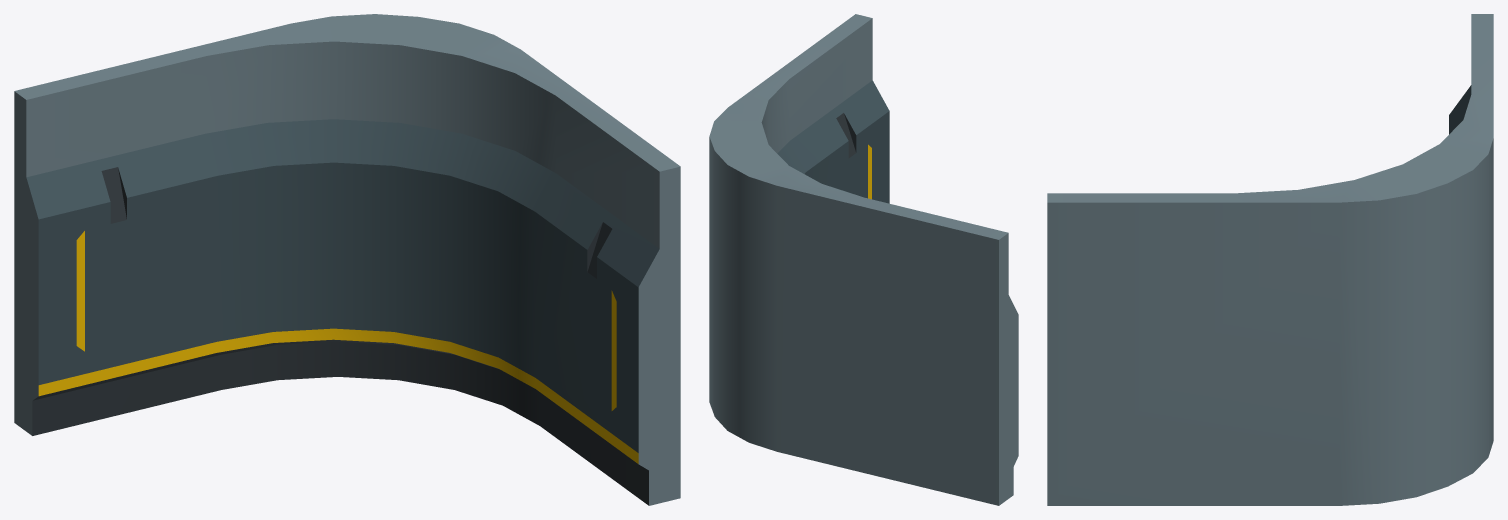
The model's file is Wall_type_C_044.fbx.
The picture shows the model from 3 angles, left to right: view 1: azimuth 30°, elevation 25°; view 2: azimuth 150°, elevation 25°; view 3: azimuth 270°, elevation 25°; orthographic projection. The views are drawn at different scales.
Parts seen in each view (by area): view 1: Wall_type_C_044; view 2: Wall_type_C_044; view 3: Wall_type_C_044.
Part boxes in pixels (x1,y1,x2,y2): Wall_type_C_044: [14, 14, 680, 505]; Wall_type_C_044: [709, 14, 1018, 505]; Wall_type_C_044: [1047, 14, 1493, 505].
Bounding box in the file's own units: 200 × 200 × 150.
